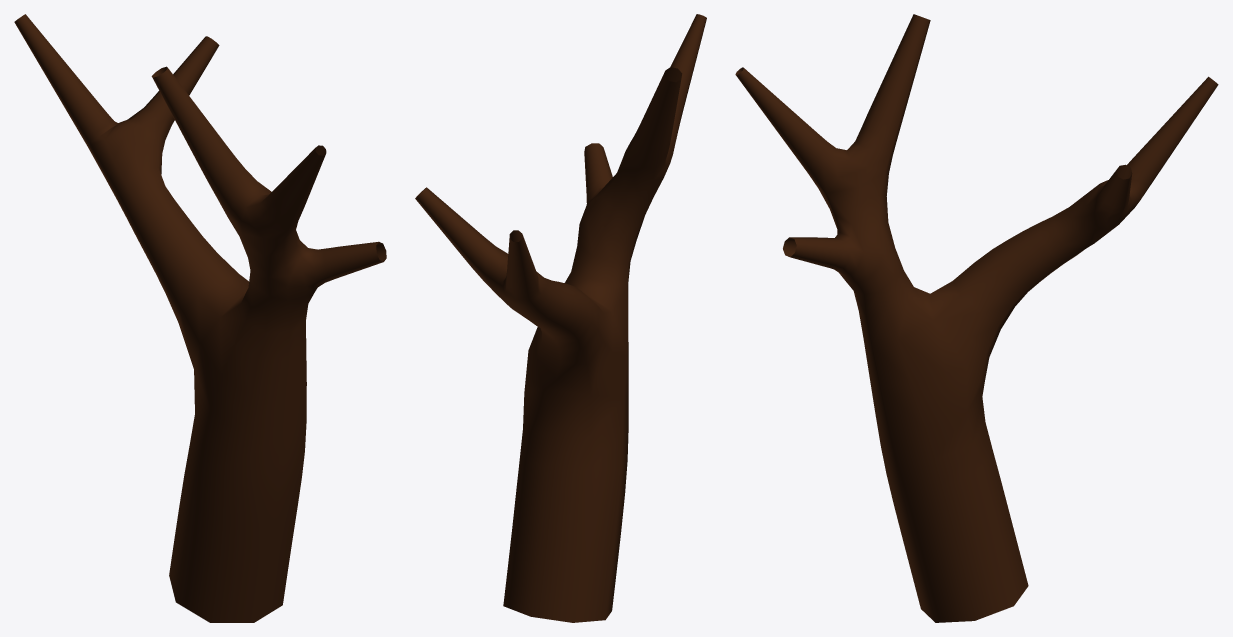
Rendered from Trunk1.fbx.
3 views of the same model, side by side, from view 1: azimuth 30°, elevation 25°; view 2: azimuth 150°, elevation 25°; view 3: azimuth 270°, elevation 25° (orthographic). The views are drawn at different scales.
Parts seen in each view (by area): view 1: Trunk1; view 2: Trunk1; view 3: Trunk1.
Boxes of the visible parts, left/top/right/bottom form: Trunk1: left=14, top=14, right=386, bottom=622; Trunk1: left=415, top=14, right=706, bottom=622; Trunk1: left=735, top=14, right=1218, bottom=622.
Bounding box in the file's own units: 78.2 × 253 × 200.
